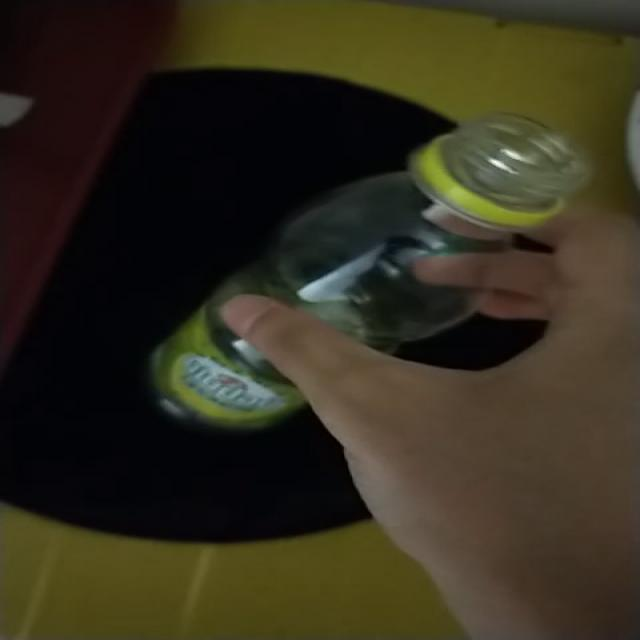Plastic: (149, 112, 591, 431)
